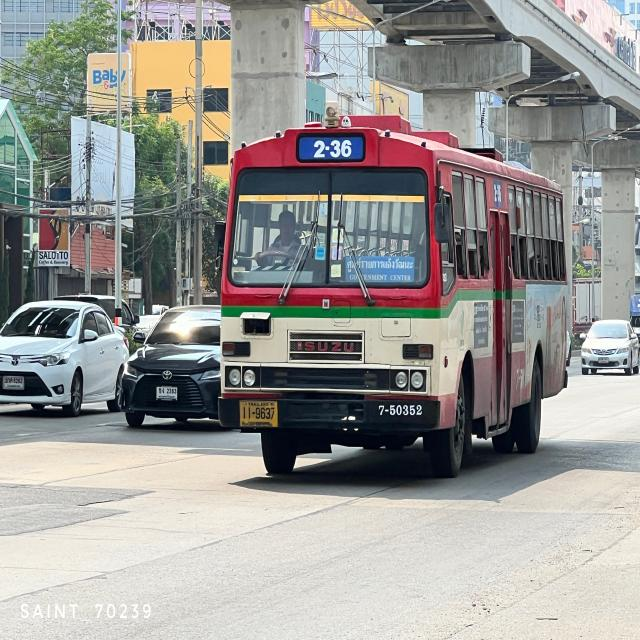BMTA-bus: (212, 106, 575, 482)
Bus-Line-Number: (294, 131, 366, 163)
Destination-Sign-Normal: (343, 259, 418, 287)
